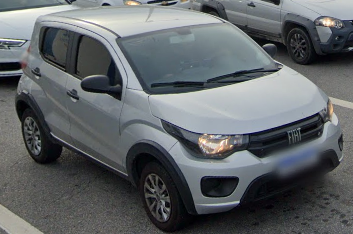car: (15, 5, 345, 231)
